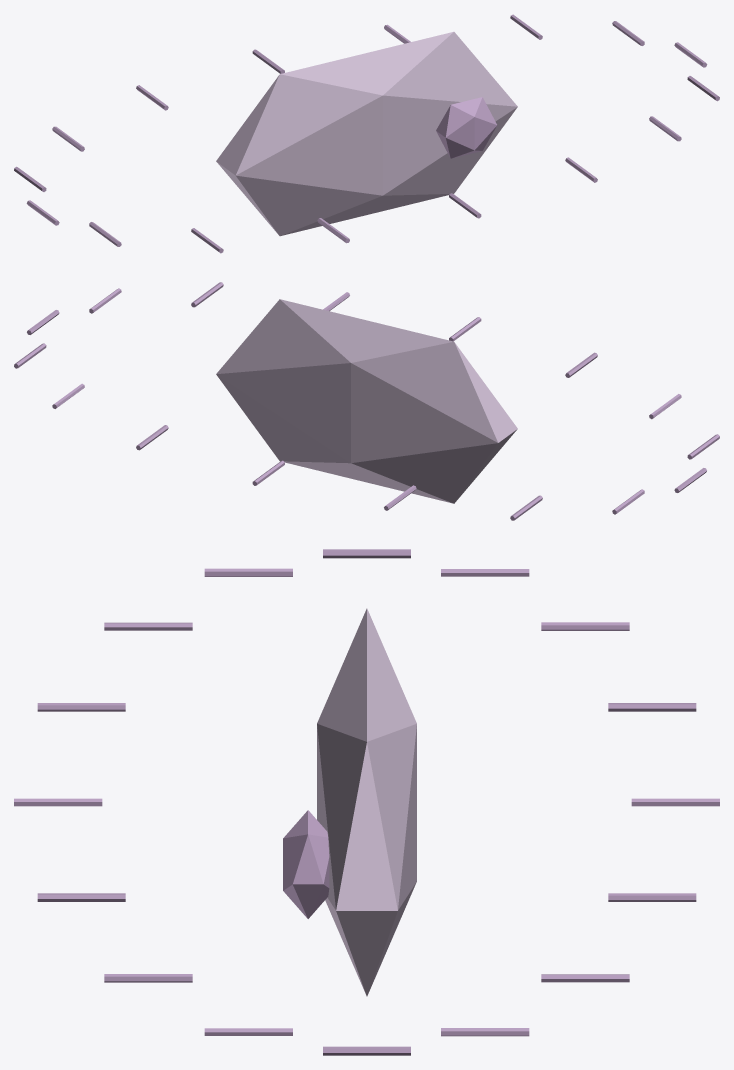
The model's file is paramecium.glb.
3 renders of one model, top to bottom at view 1: azimuth 30°, elevation 25°; view 2: azimuth 150°, elevation 25°; view 3: azimuth 270°, elevation 25°, orthographic. The views are drawn at different scales.
Visible parts, largest first — view 1: world; view 2: world; view 3: world.
Part boxes in pixels (bbox=[...]): world: bbox=[14, 14, 719, 253]; world: bbox=[14, 282, 719, 520]; world: bbox=[14, 549, 719, 1055].
Size of the model in its own units: 1.61 by 0.3828 by 0.96.
